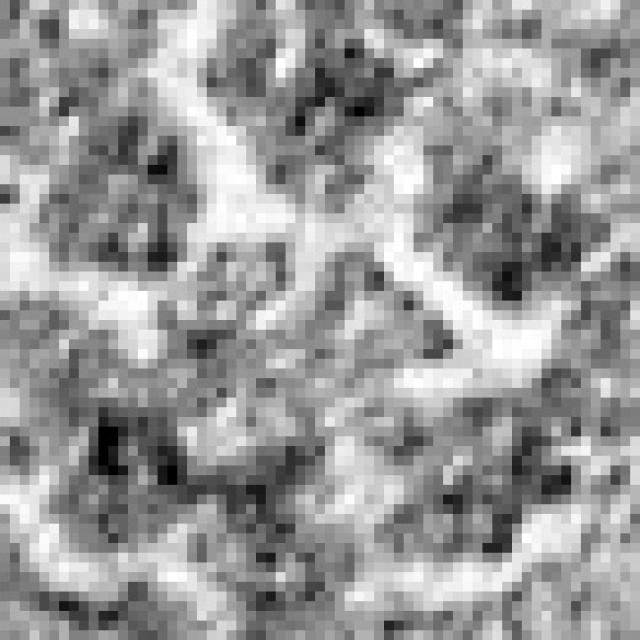inner: (160, 229, 473, 425)
lobe: (203, 13, 409, 211), (417, 119, 612, 312), (383, 385, 578, 566), (36, 89, 208, 285), (196, 438, 354, 622), (41, 400, 195, 551)
outer: (4, 0, 640, 640)
